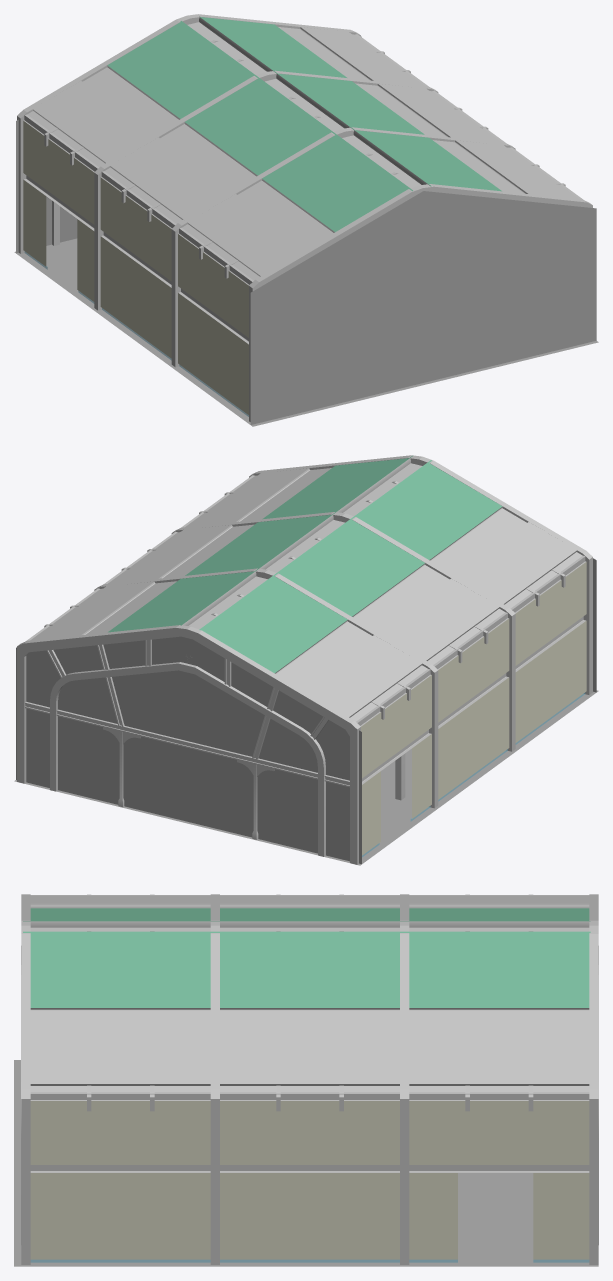
The model's file is Hall_2.FBX.
3 renders of one model, top to bottom at view 1: azimuth 30°, elevation 25°; view 2: azimuth 150°, elevation 25°; view 3: azimuth 270°, elevation 25°, orthographic. The views are drawn at different scales.
Visible parts, largest first — view 1: Wall_End1_Closed, Wall_End1_Open, Celing4, Celing6, Celing2, Part1, Wall4, Wall2, Celing3, Celing1, Celing5, Wall6 (+3 smaller); view 2: Wall_End2_Closed, Part1, Celing6, Celing2, Celing4, Wall2, Wall4, Celing5, Celing3, Celing1, Wall6, Ground (+2 smaller); view 3: Wall1, Wall3, Celing1, Celing5, Celing3, Wall5, Part1, Ground, Celing2, Celing6, Celing4, Part3.
Part boxes in pixels (x1=…): Wall_End1_Closed: x1=250, y1=192, x2=596, y2=424; Wall_End1_Open: x1=251, y1=191, x2=596, y2=423; Celing4: x1=104, y1=77, x2=335, y2=223; Celing6: x1=27, y1=21, x2=258, y2=167; Celing2: x1=182, y1=134, x2=413, y2=280; Part1: x1=17, y1=14, x2=592, y2=421; Wall4: x1=100, y1=171, x2=176, y2=360; Wall2: x1=178, y1=228, x2=253, y2=416; Celing3: x1=268, y1=73, x2=502, y2=144; Celing1: x1=346, y1=129, x2=579, y2=201; Celing5: x1=191, y1=16, x2=424, y2=87; Wall6: x1=23, y1=114, x2=98, y2=303; Wall_End2_Closed: x1=16, y1=636, x2=361, y2=864; Part1: x1=17, y1=455, x2=592, y2=864; Celing6: x1=196, y1=573, x2=427, y2=721; Celing2: x1=351, y1=460, x2=582, y2=608; Celing4: x1=274, y1=516, x2=505, y2=664; Wall2: x1=510, y1=555, x2=586, y2=744; Wall4: x1=433, y1=612, x2=509, y2=801; Celing5: x1=31, y1=569, x2=263, y2=640; Celing3: x1=108, y1=512, x2=341, y2=583; Celing1: x1=185, y1=455, x2=418, y2=527; Wall6: x1=356, y1=669, x2=431, y2=856; Ground: x1=14, y1=690, x2=598, y2=865; Wall1: x1=30, y1=1092, x2=210, y2=1262; Wall3: x1=220, y1=1092, x2=399, y2=1262; Celing1: x1=23, y1=931, x2=212, y2=1092; Celing5: x1=401, y1=931, x2=590, y2=1092; Celing3: x1=212, y1=931, x2=401, y2=1092; Wall5: x1=409, y1=1092, x2=589, y2=1262; Part1: x1=21, y1=894, x2=598, y2=1264; Ground: x1=14, y1=1060, x2=598, y2=1266; Celing2: x1=23, y1=895, x2=212, y2=931; Celing6: x1=401, y1=895, x2=590, y2=931; Celing4: x1=212, y1=895, x2=401, y2=931; Part3: x1=87, y1=894, x2=533, y2=1111.
Bounding box in the file's own units: 2068 × 1109 × 2472.
